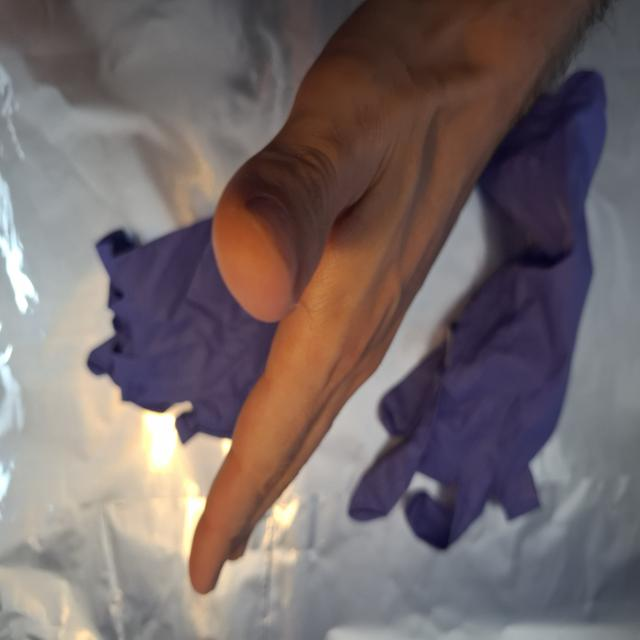glove_off: (185, 2, 548, 596)
